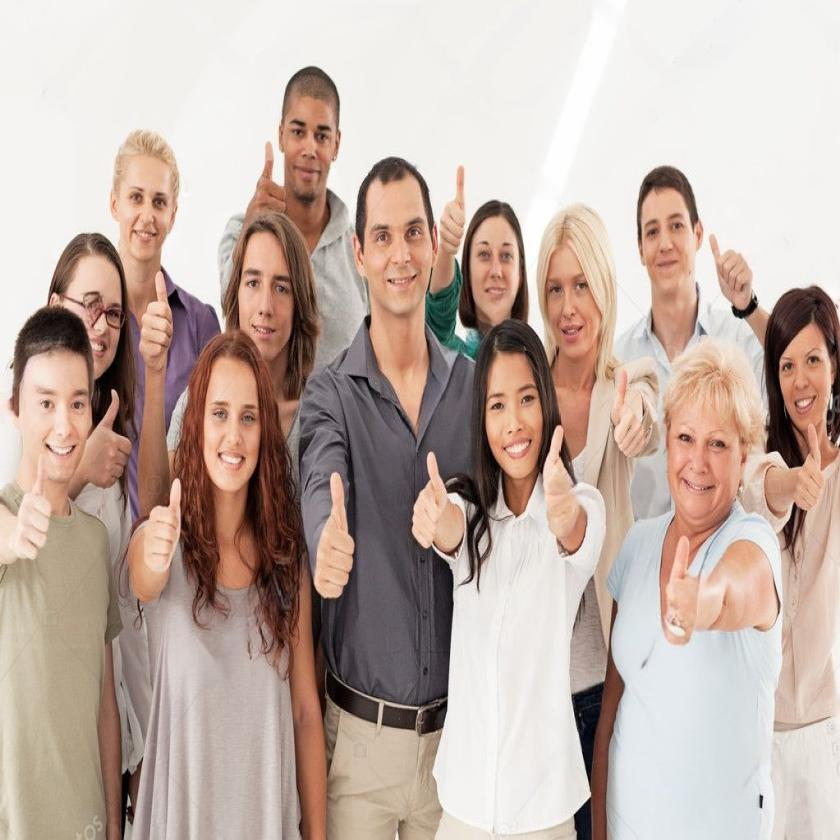Sin_casco: (663, 331, 758, 553), (351, 148, 442, 352), (11, 303, 95, 507), (189, 324, 272, 526), (534, 192, 618, 381), (473, 319, 553, 509), (229, 204, 313, 380), (52, 229, 138, 387), (630, 160, 709, 303), (276, 57, 343, 225), (108, 121, 183, 271), (772, 281, 837, 451), (460, 191, 526, 330)
